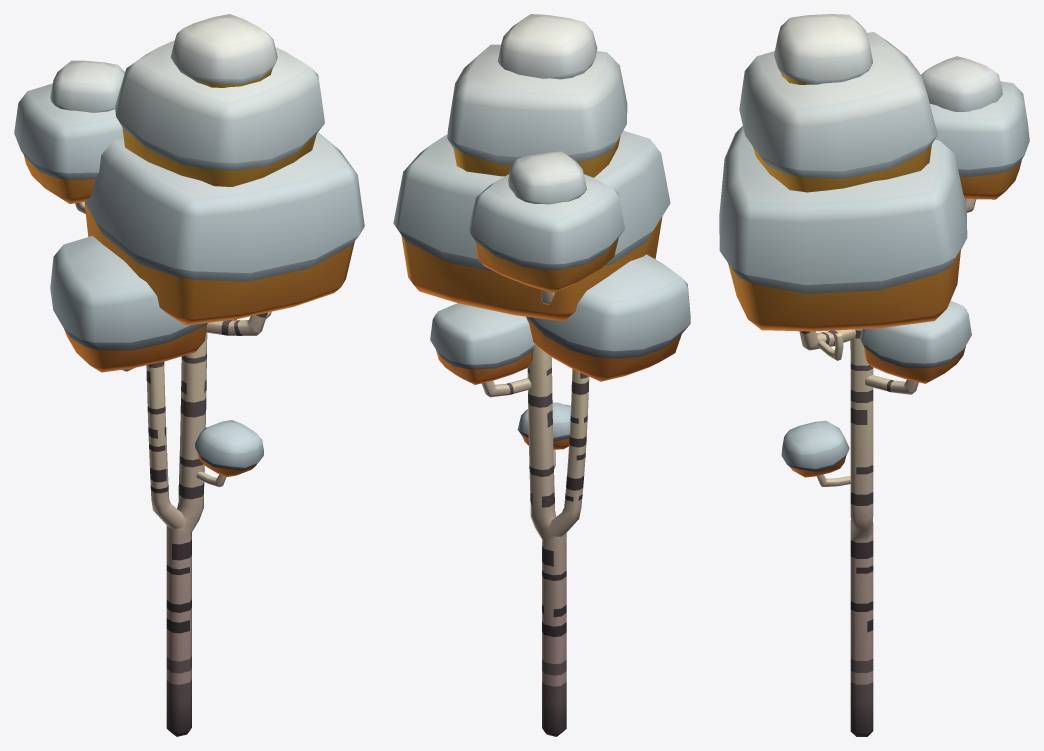
File: birch_tree_col2_01_snow.fbx
3 views of the same model, side by side, from view 1: azimuth 30°, elevation 25°; view 2: azimuth 150°, elevation 25°; view 3: azimuth 270°, elevation 25° (orthographic). The views are drawn at different scales.
Visible parts, largest first — view 1: birch_tree_col2_01_snow; view 2: birch_tree_col2_01_snow; view 3: birch_tree_col2_01_snow.
Boxes of the visible parts, x1,y1,x2,y2 form: birch_tree_col2_01_snow: [14, 14, 364, 736]; birch_tree_col2_01_snow: [393, 14, 690, 736]; birch_tree_col2_01_snow: [719, 14, 1029, 736].
Bounding box in the file's own units: 492 × 1301 × 506.
Materials: 1 (1 with a texture image).
